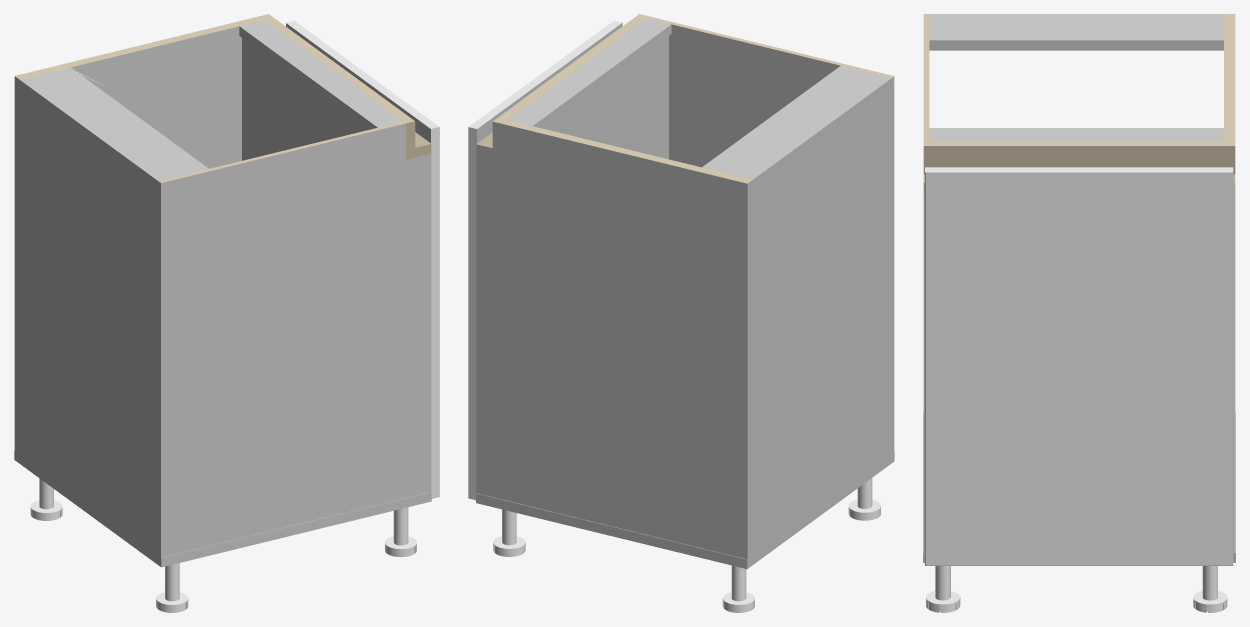
3 renders of one model, left to right at view 1: azimuth 30°, elevation 25°; view 2: azimuth 150°, elevation 25°; view 3: azimuth 270°, elevation 25°, orthographic. The views are drawn at different scales.
Visible parts, largest first — view 1: Model; view 2: Model; view 3: Model.
Boxes of the visible parts, x1,y1,x2,y2 form: Model: (14, 14, 439, 612); Model: (468, 14, 894, 612); Model: (923, 14, 1235, 612).
Size of the model in its own units: 550 by 817 by 501.
